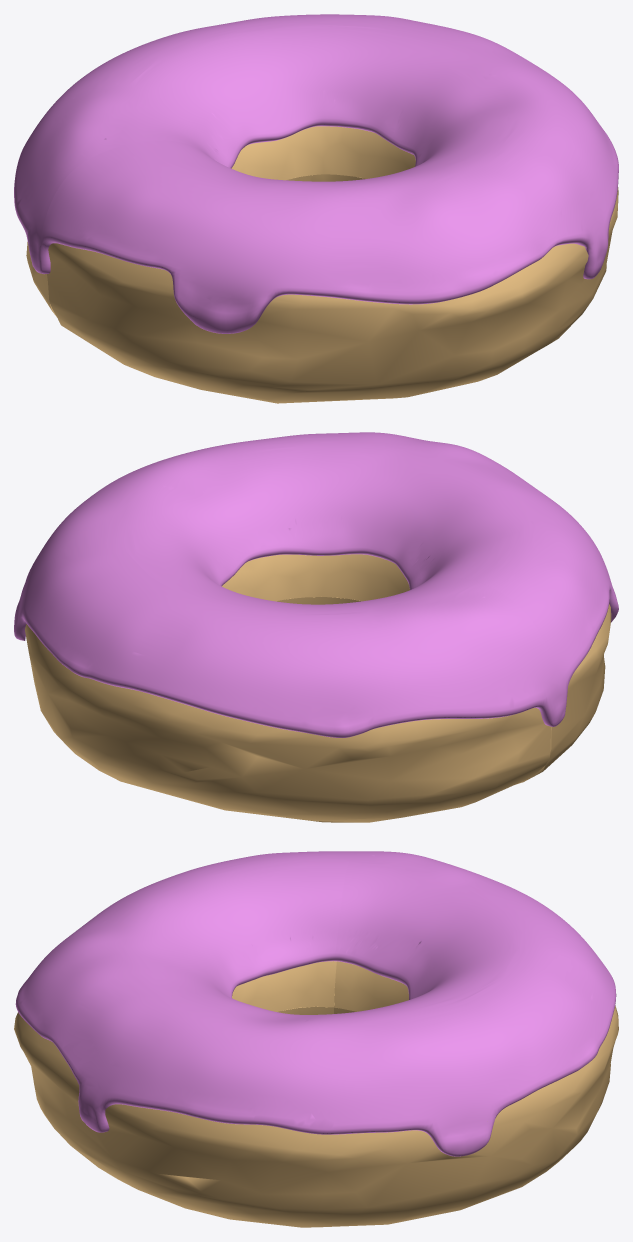
File: naked_donut.fbx
3 views of the same model, one above another, from view 1: azimuth 30°, elevation 25°; view 2: azimuth 150°, elevation 25°; view 3: azimuth 270°, elevation 25° (orthographic). The views are drawn at different scales.
Visible parts, largest first — view 1: Icing.002, Donut.002; view 2: Icing.002, Donut.002; view 3: Icing.002, Donut.002.
Boxes of the visible parts, x1,y1,x2,y2 form: Icing.002: (14, 14, 618, 333); Donut.002: (26, 126, 618, 403); Icing.002: (14, 432, 618, 737); Donut.002: (25, 554, 611, 822); Icing.002: (15, 851, 616, 1156); Donut.002: (14, 961, 618, 1227).
Bounding box in the file's own units: 14.92 × 5.49 × 15.4.
